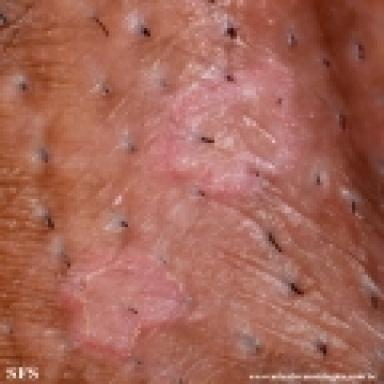Porokeratosis: (165, 60, 316, 198), (81, 249, 188, 352)
